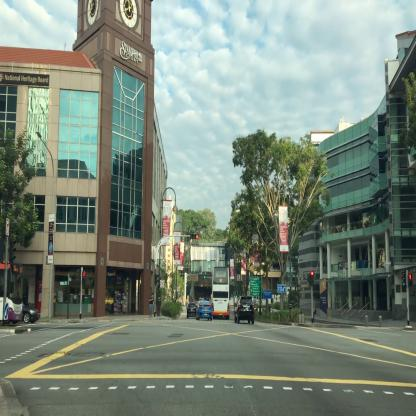red_traffic_light: (310, 270, 314, 284), (190, 233, 198, 239)
